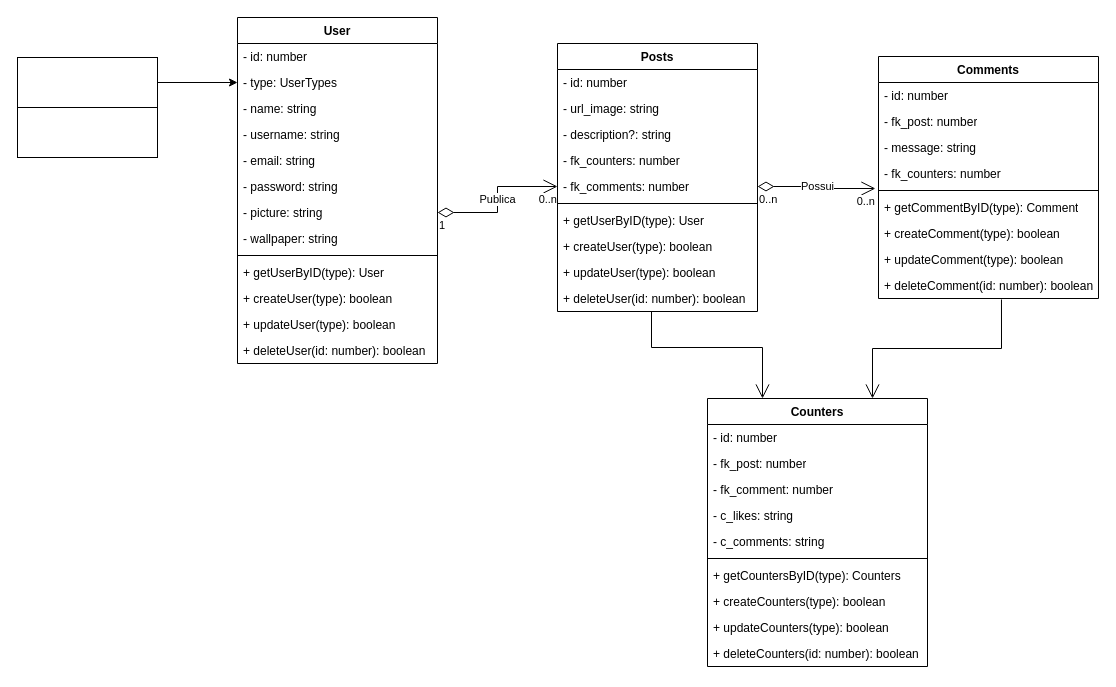
This 1116x687 diagram has some shape labels left out. The shapes that lost their labels are listed below. From the top down, each one's centre as x and y in pixels, then its label:
(x=87, y=82): «interface» UserTypes
(x=87, y=132): 1 = "ADM" 2 = "User normal" 3 = "User reduced"
